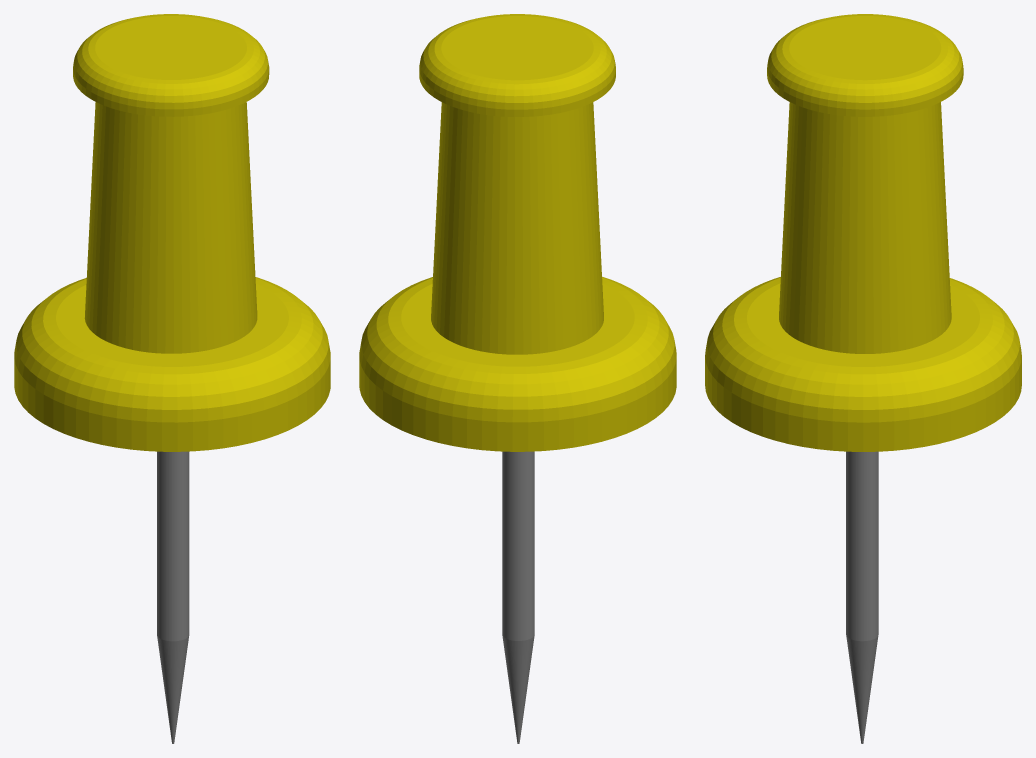
File: Pin yellowNEW.fbx
3 renders of one model, left to right at view 1: azimuth 30°, elevation 25°; view 2: azimuth 150°, elevation 25°; view 3: azimuth 270°, elevation 25°, orthographic.
Visible parts, largest first — view 1: pin, needle; view 2: pin, needle; view 3: pin, needle.
Boxes of the visible parts, bbox=[...] form: pin: bbox=[14, 14, 330, 451]; needle: bbox=[157, 451, 189, 743]; pin: bbox=[359, 14, 676, 451]; needle: bbox=[502, 451, 534, 743]; pin: bbox=[705, 14, 1021, 451]; needle: bbox=[846, 451, 878, 743].
Size of the model in its own units: 87.5 by 212 by 87.5.
